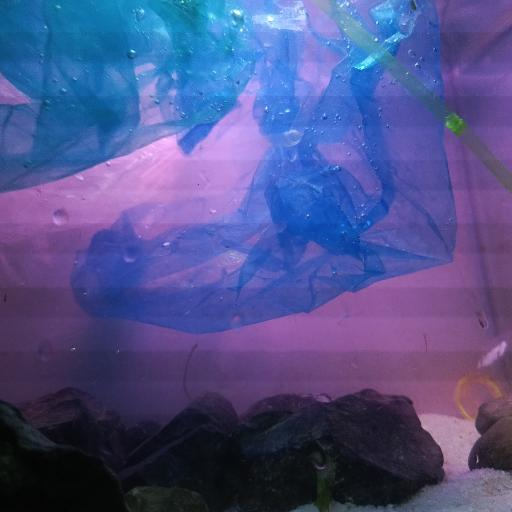plastic_bag: (86, 4, 472, 329), (0, 0, 267, 202)
plastic_straw: (327, 0, 512, 188)
